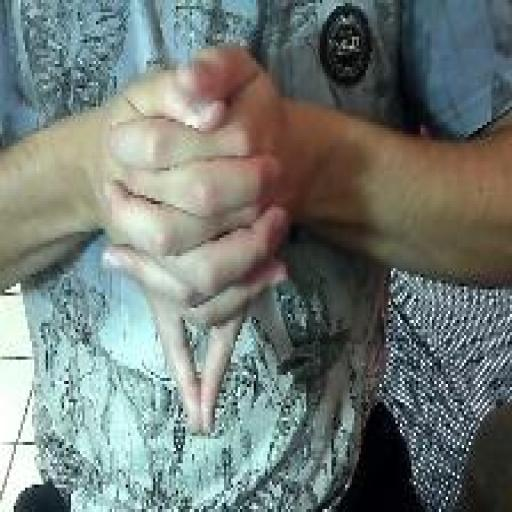Tatsu -dragon-: (99, 38, 296, 444)
